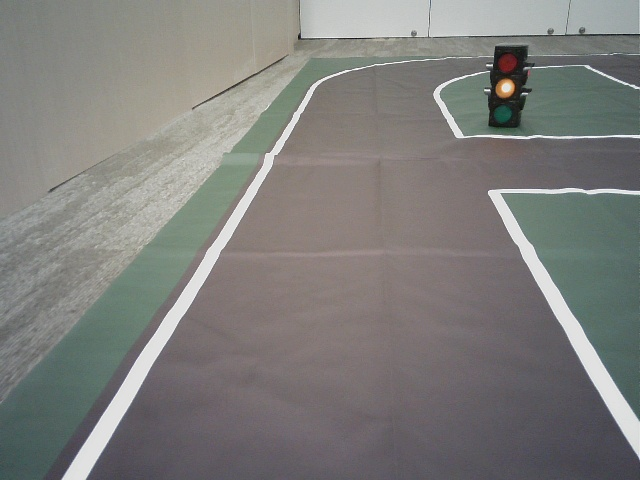yellow: (493, 48, 516, 122)
